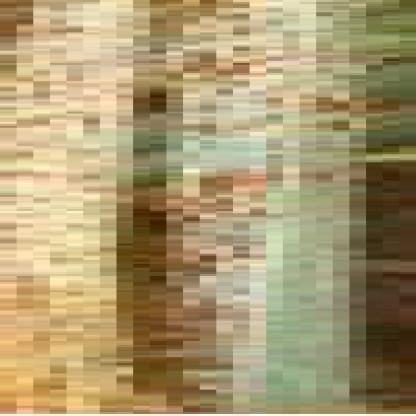wheat Stem Rust: (40, 1, 360, 415)
